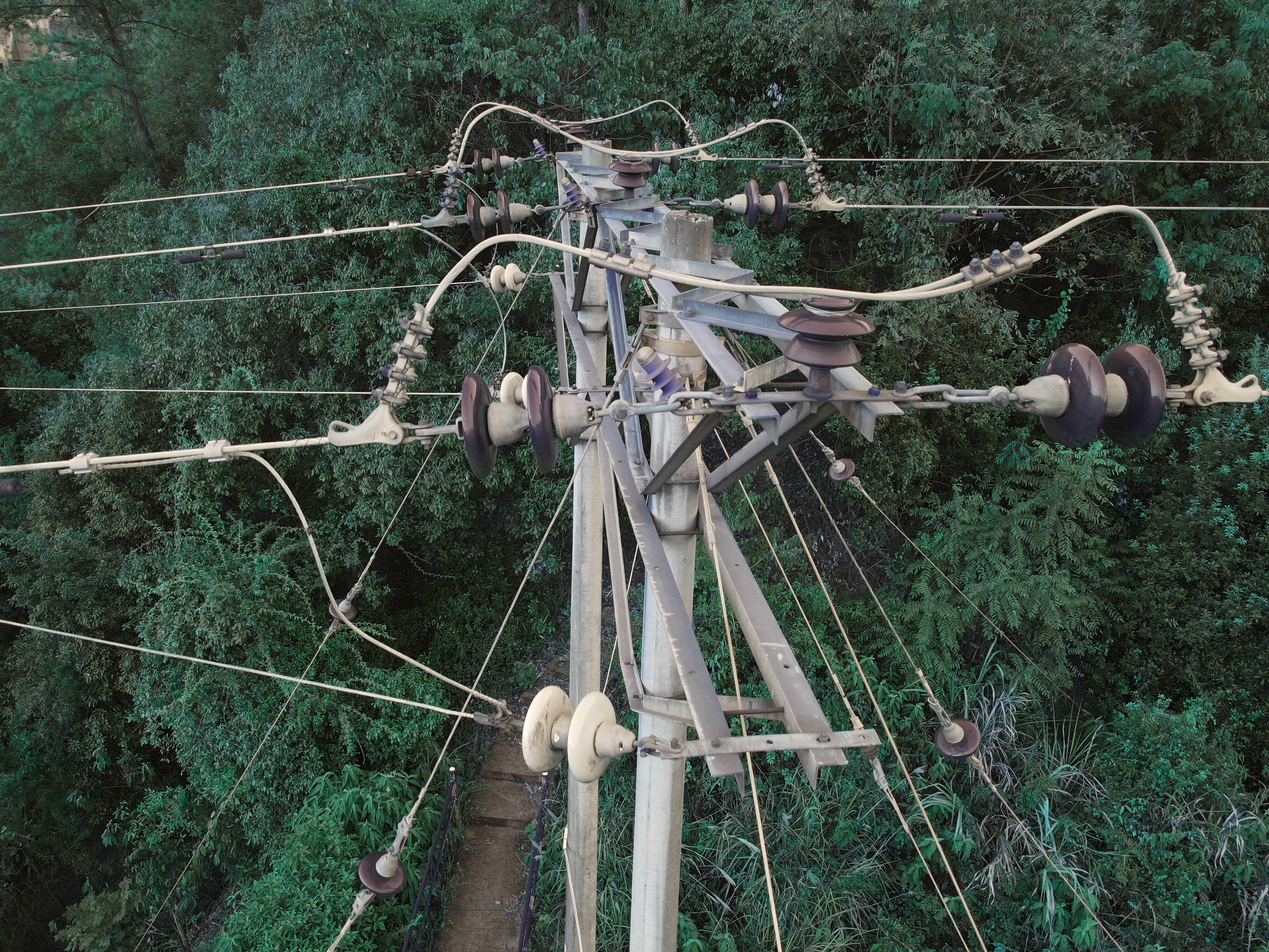severe_soiling_no_discharge_whole: (517, 684, 637, 786), (489, 261, 527, 295)
